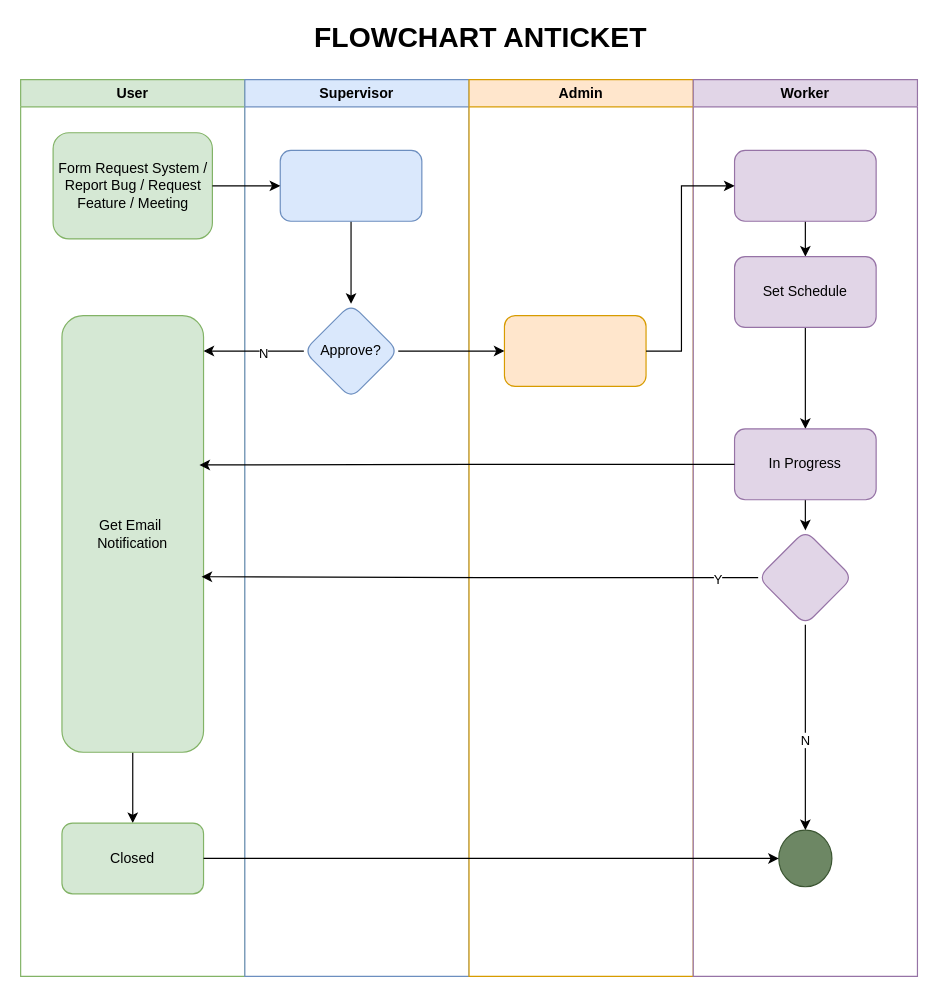
The diagram is 938 pixels wide and 997 high, and some of its shapes have lost their labels. Here are the shapes that lost their labels. From the top down, the centre of each, then its label:
At point 350,185: "Discuss with Manager & Worker".
At point 804,185: "Backlog".
At point 574,350: "Mapping Project to Worker".
At point 805,577: "Done?".
At point 805,858: "Selesai".
